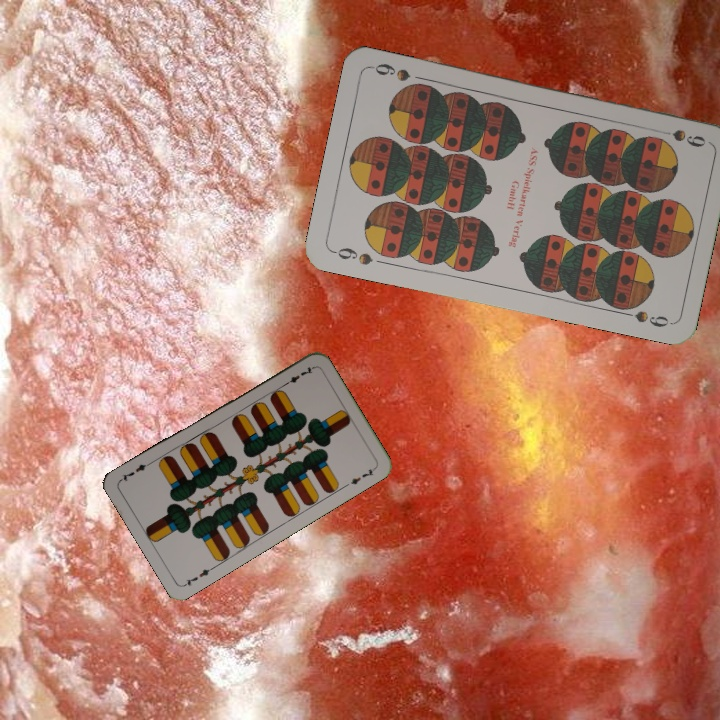E7: (180, 562, 217, 589), (279, 363, 316, 389)
S9: (328, 243, 375, 268), (668, 125, 709, 150)
